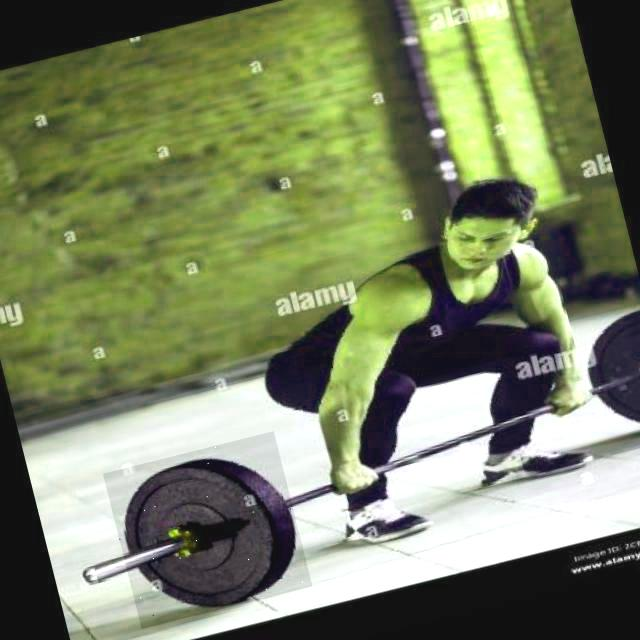barbell: (103, 432, 312, 630)
